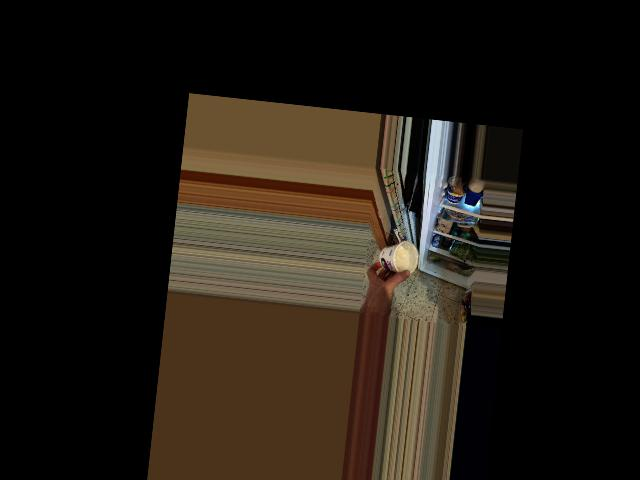cotage: (379, 241, 419, 275)
